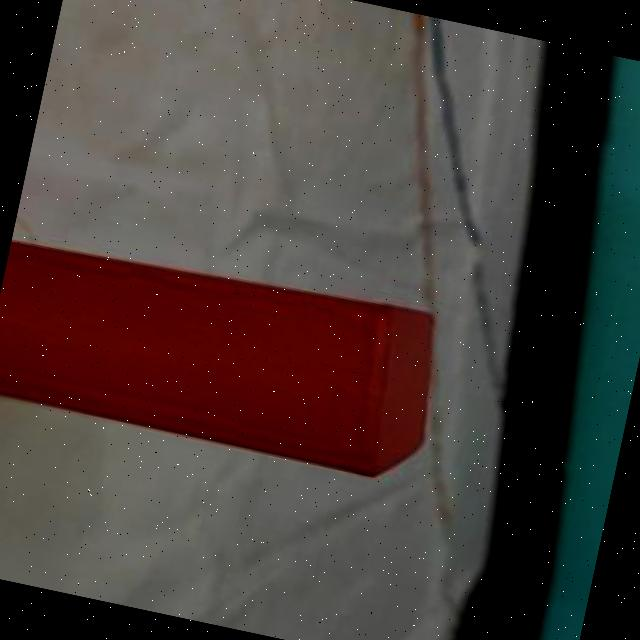redbox: (0, 221, 452, 488)
